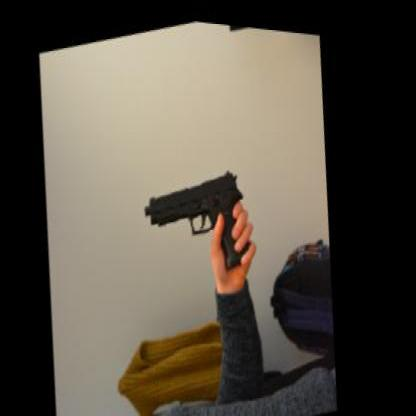pistol: (138, 150, 262, 288)
